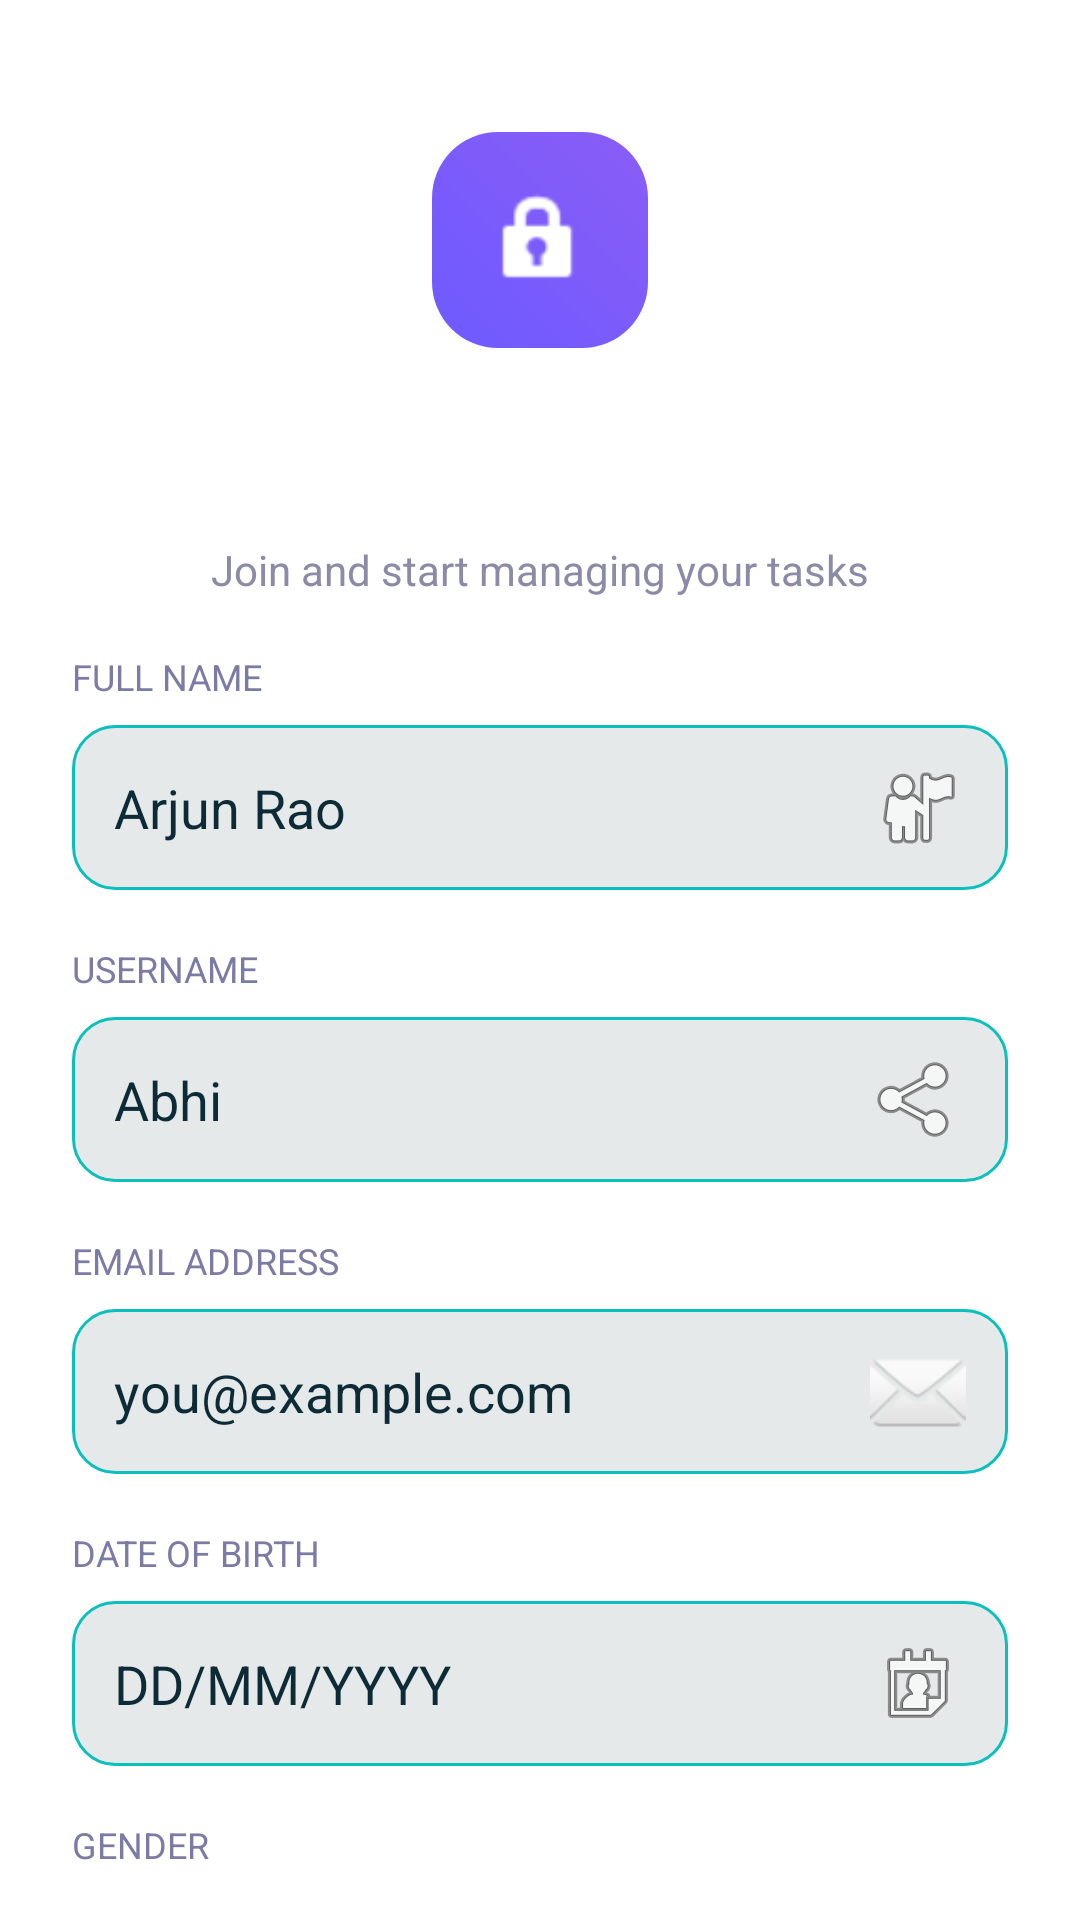

Icon bounding boxes for this 1080px×1920px phone screenshot, format (x1, y1, x2, y2):
lock idle: (432, 132, 648, 348)
